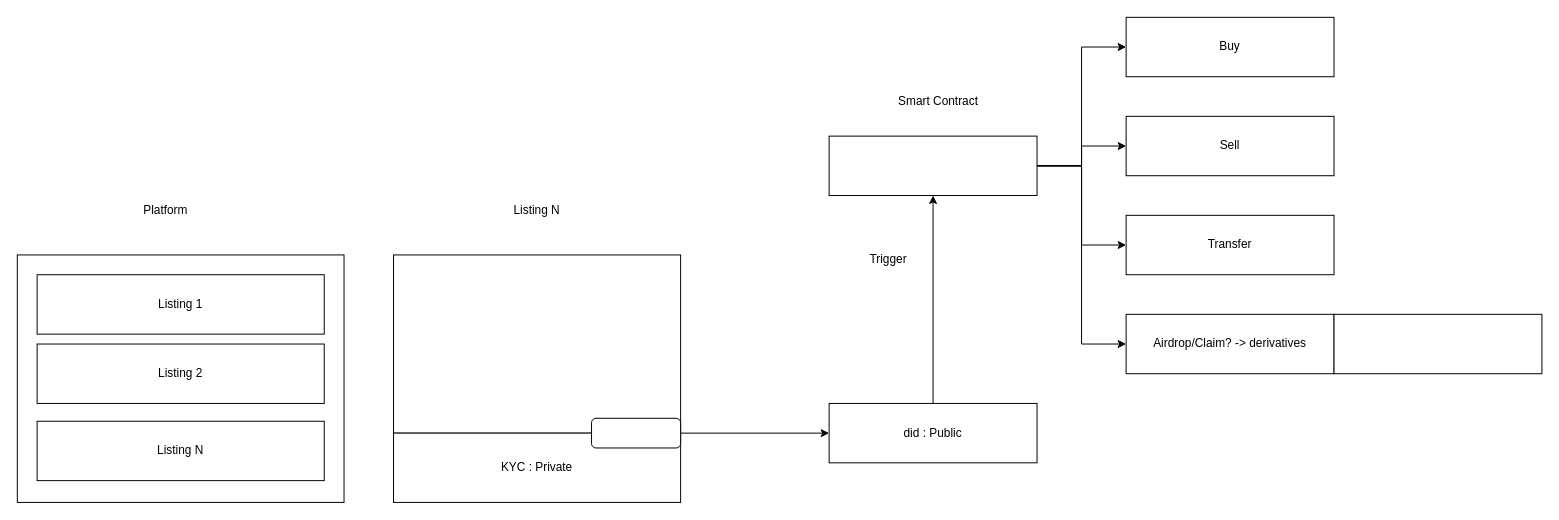
This 1559x520 diagram has some shape labels left out. Each missing label, with the box of its shape:
Name: Details: Shares: 100 Documents:: (393, 254, 681, 433)
Nominee: (1333, 313, 1542, 374)
Shares:Tokens: (828, 135, 1037, 196)
Tokenise: (591, 417, 681, 448)
